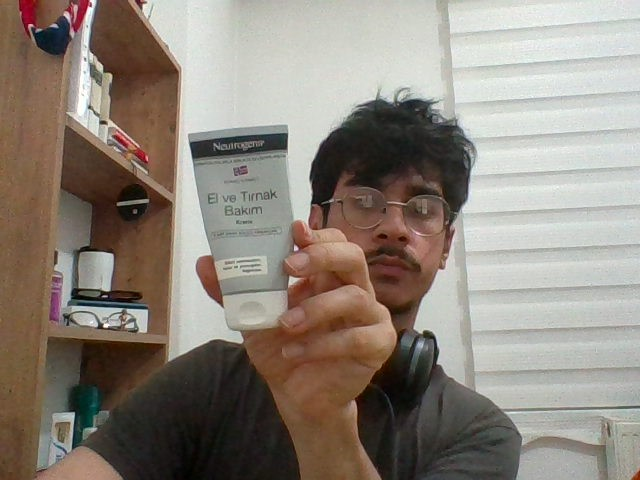Neutrogena: (187, 133, 294, 323)
